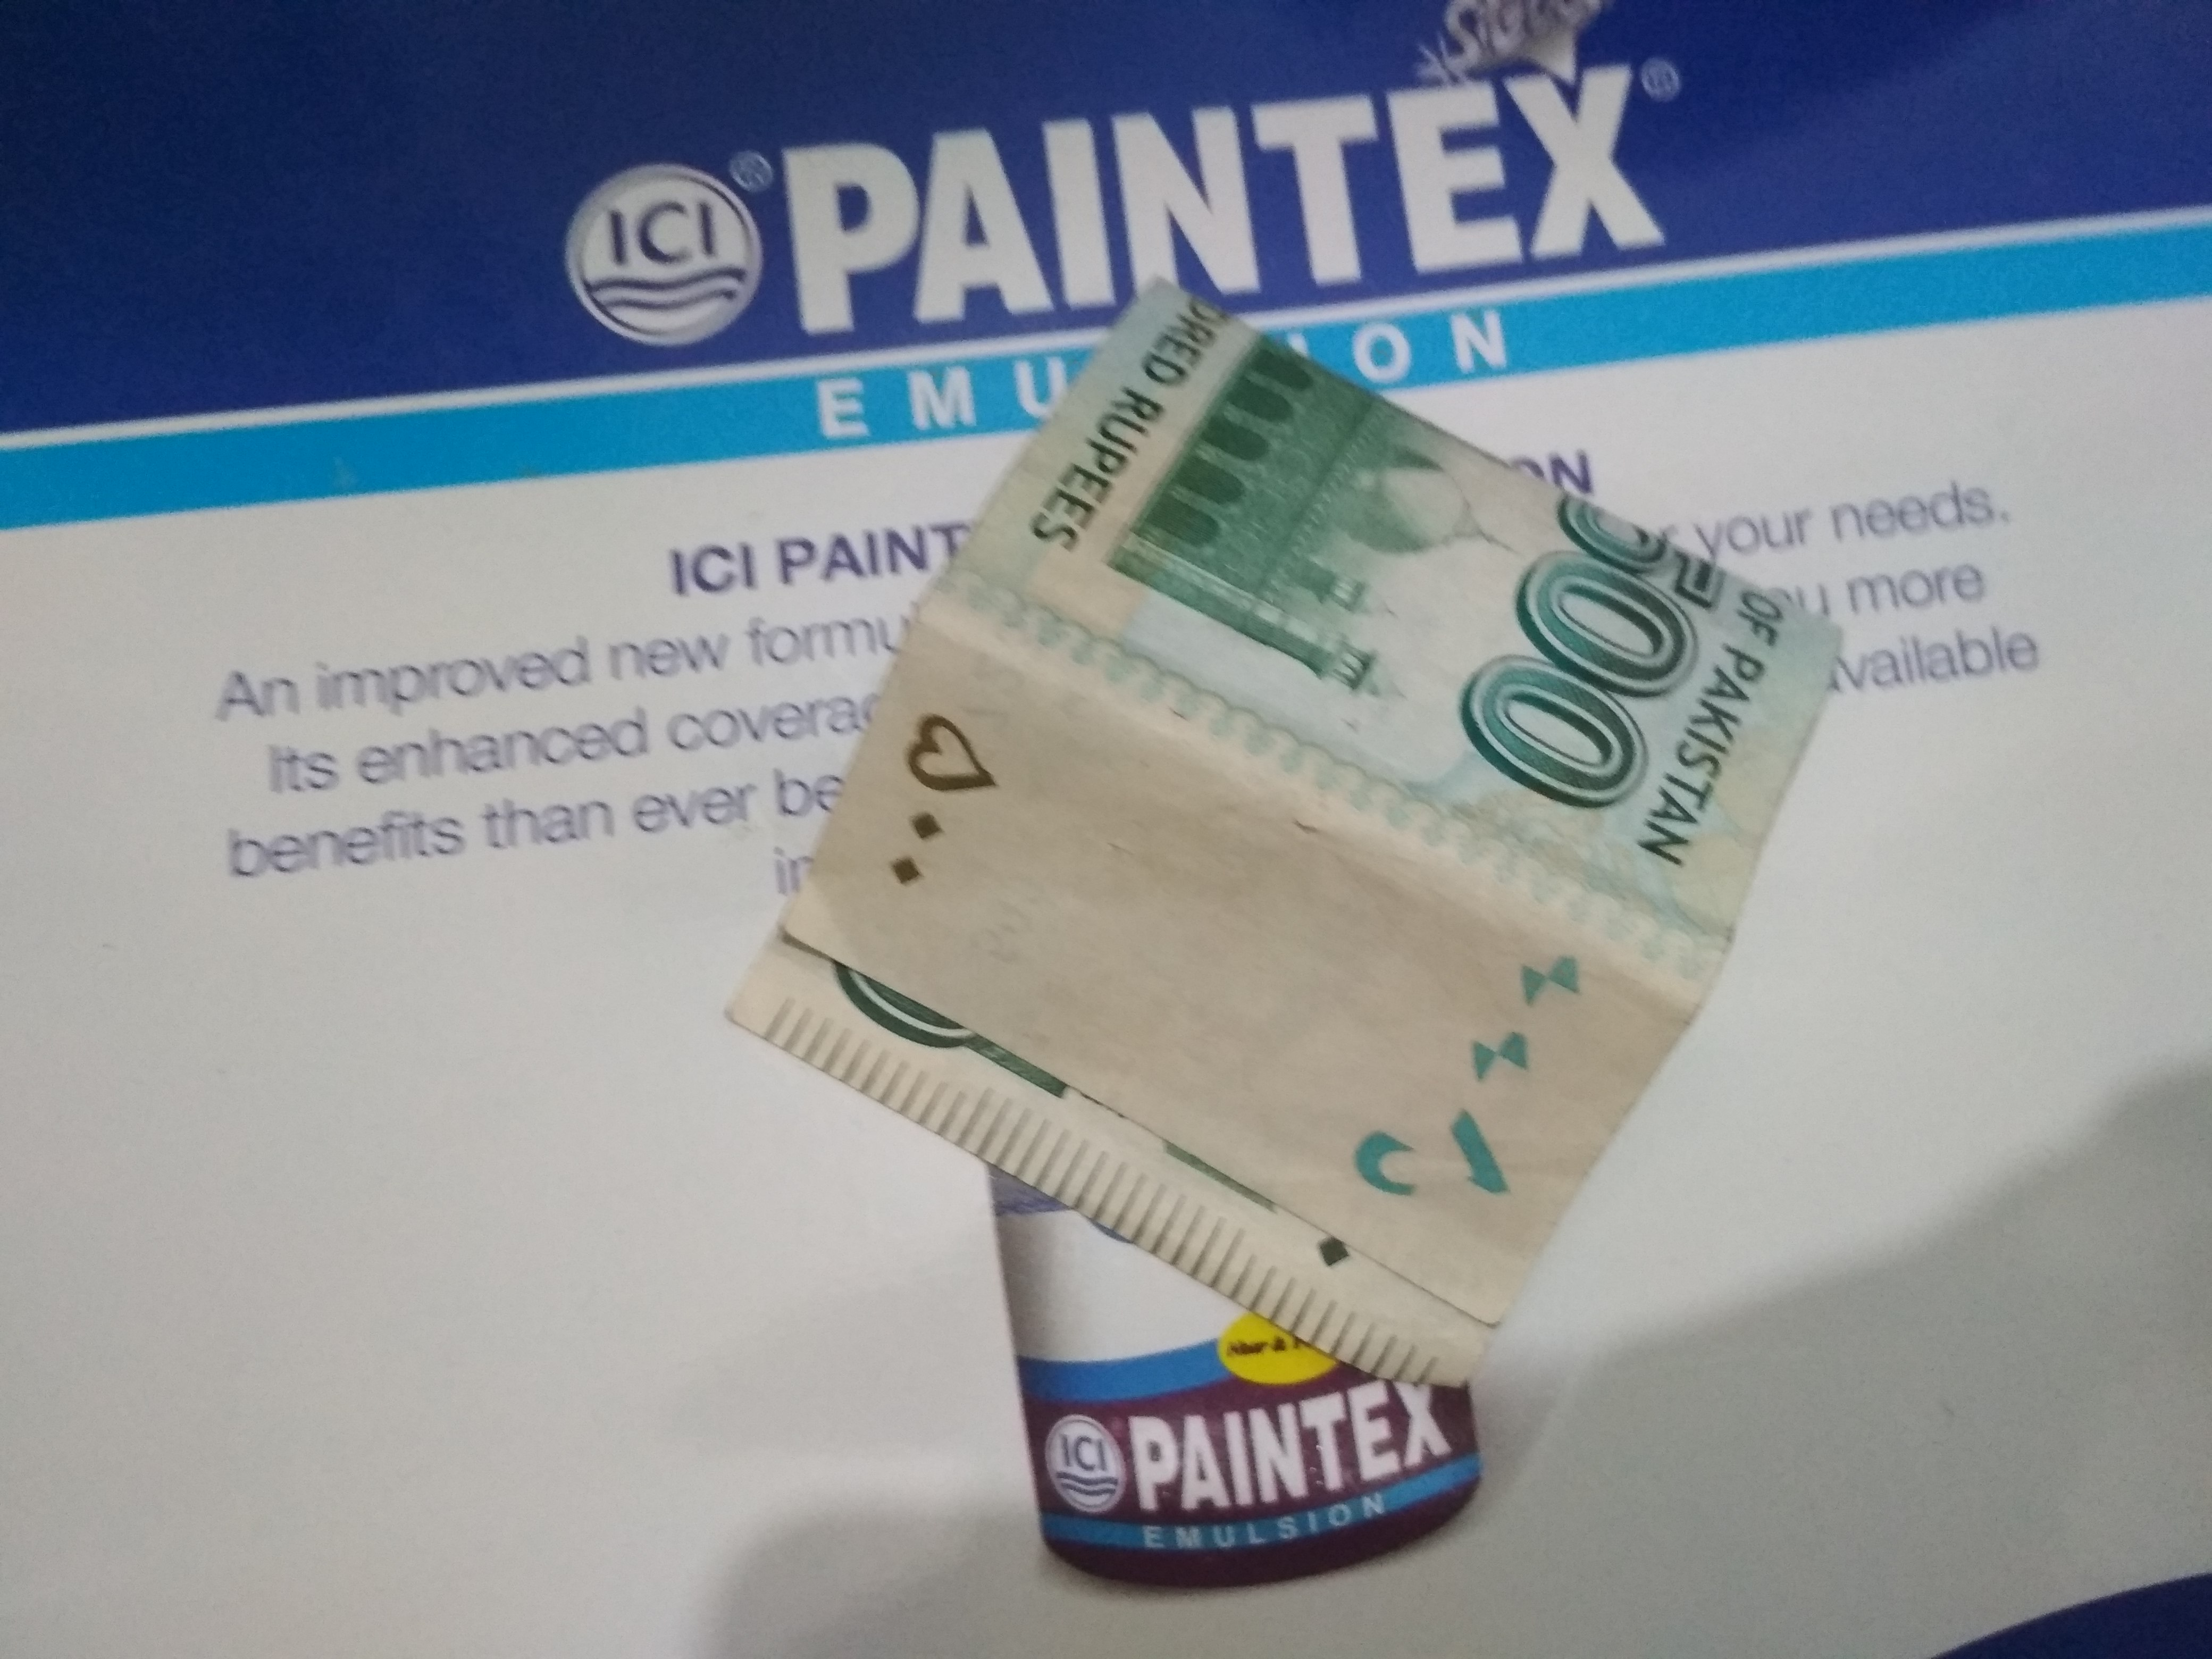500 rupee: (721, 261, 1843, 1398)
